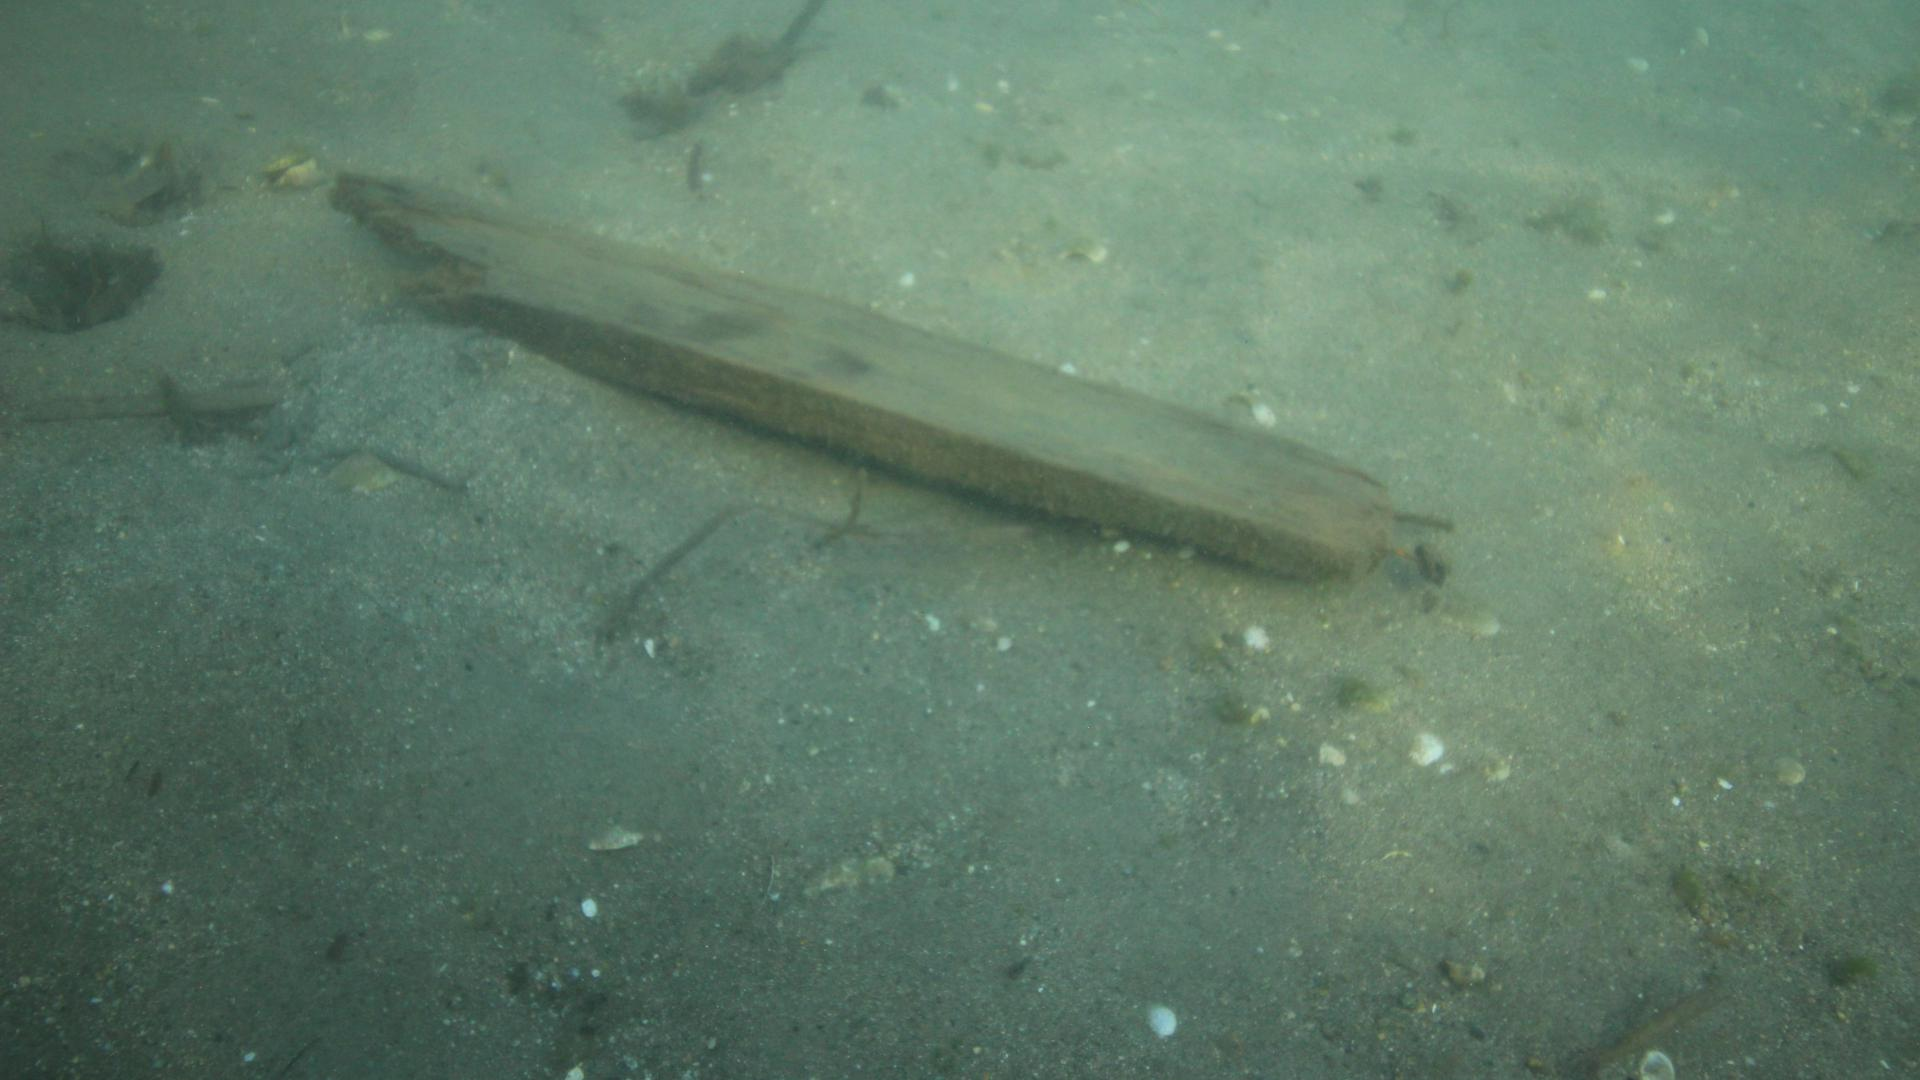wood: (326, 169, 1395, 587)
